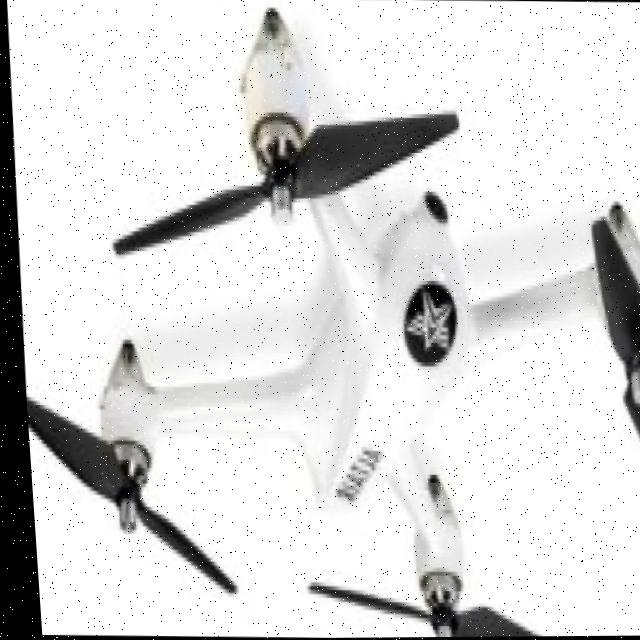drones: (1, 23, 640, 640)
